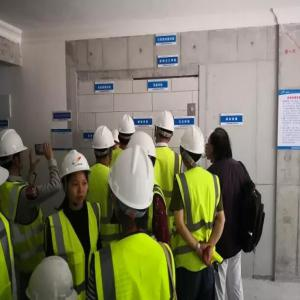none: (205, 125, 232, 165)
white: (109, 147, 155, 225), (58, 152, 91, 206), (180, 125, 206, 167), (3, 128, 27, 173), (91, 125, 114, 165), (155, 111, 175, 146), (118, 114, 137, 147)
